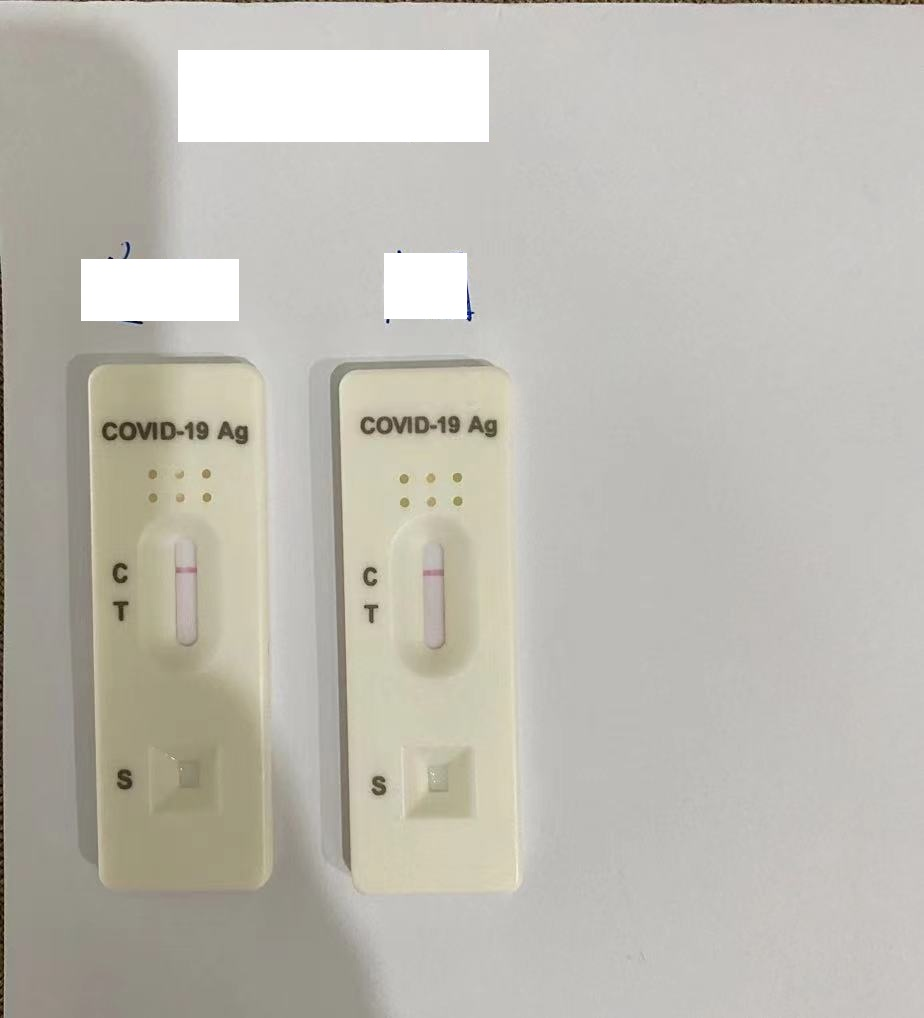negative: (392, 510, 473, 671), (143, 511, 214, 657)
